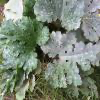Squash Powdery mildew leaf: (40, 31, 100, 88), (0, 15, 52, 71), (32, 0, 84, 31)
